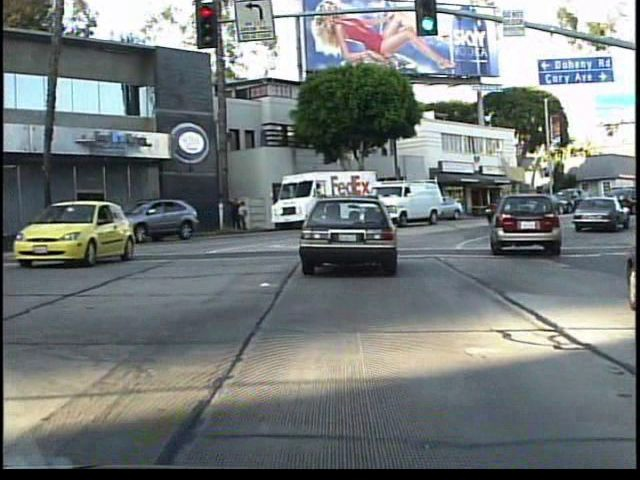person: (228, 194, 241, 233), (238, 201, 251, 233)
